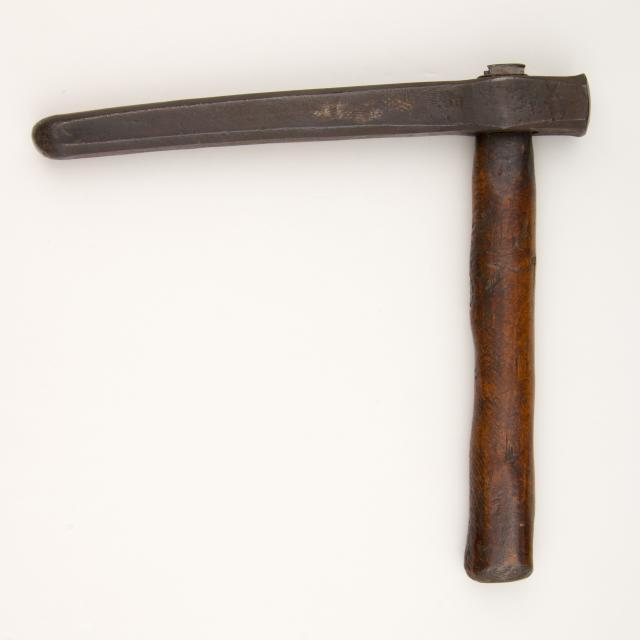hammer: (27, 58, 601, 590)
